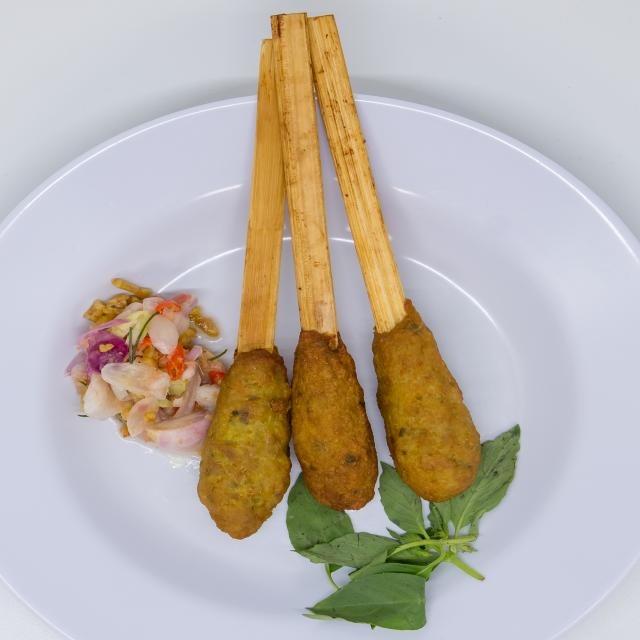Sate-Lilit: (174, 6, 503, 602)
